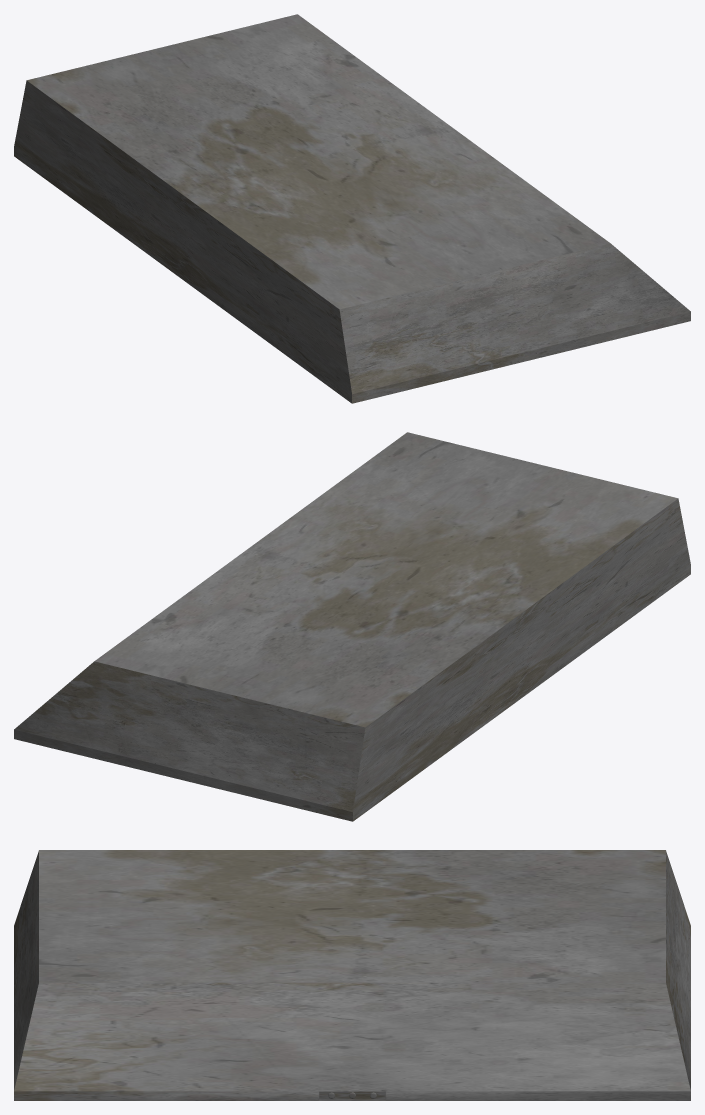
Rendered from hood.glb.
3 renders of one model, top to bottom at view 1: azimuth 30°, elevation 25°; view 2: azimuth 150°, elevation 25°; view 3: azimuth 270°, elevation 25°, orthographic.
Parts seen in each view (by area): view 1: hood; view 2: hood; view 3: hood.
Part boxes in pixels (x1,y1,x2,y2): hood: (14,14,690,403); hood: (14,432,690,821); hood: (14,850,690,1100).
Bounding box in the file's own units: 1.12 × 0.29 × 1.94.
Materials: 1 (1 with a texture image).
